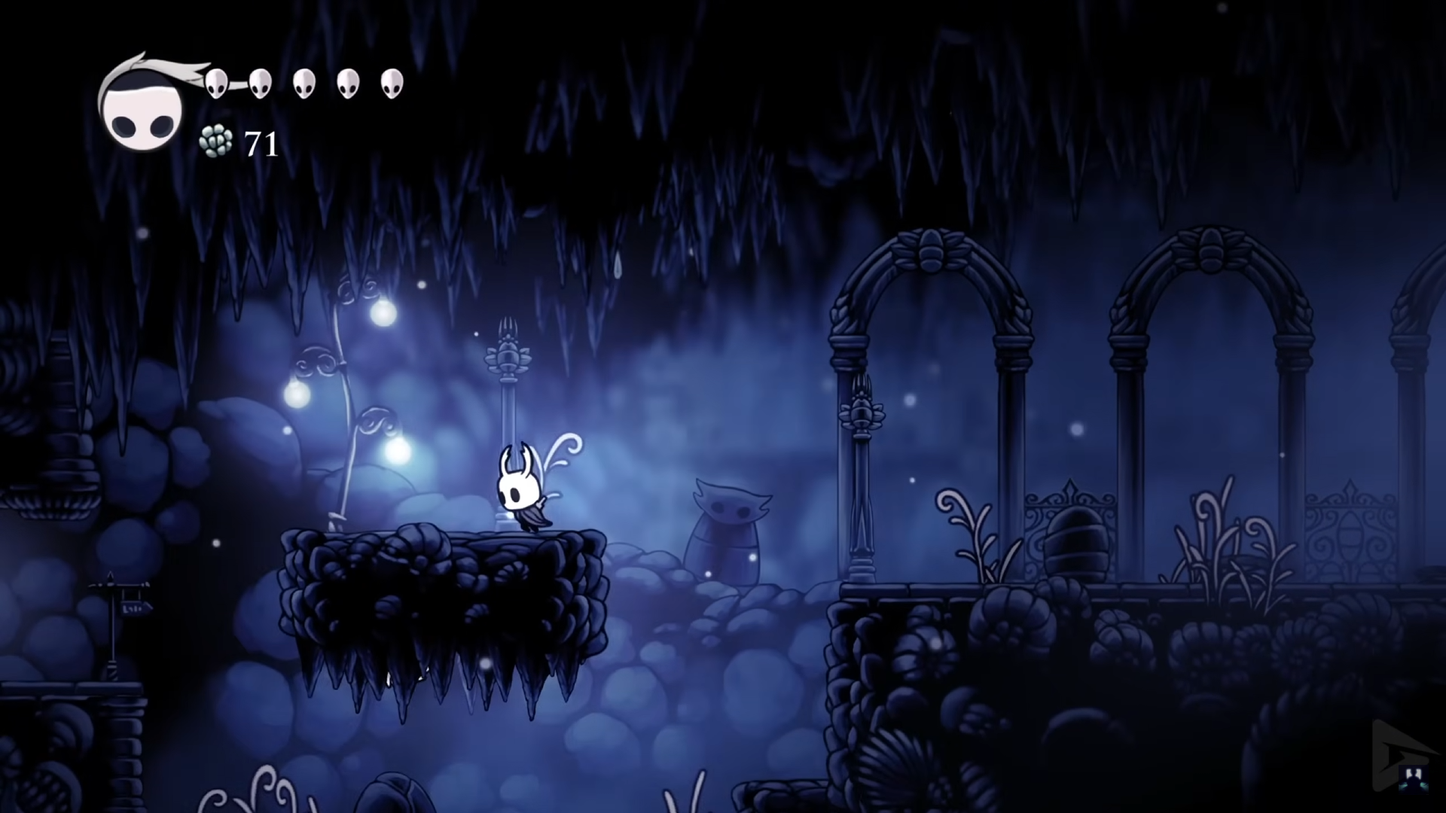HK: (488, 444, 554, 538)
